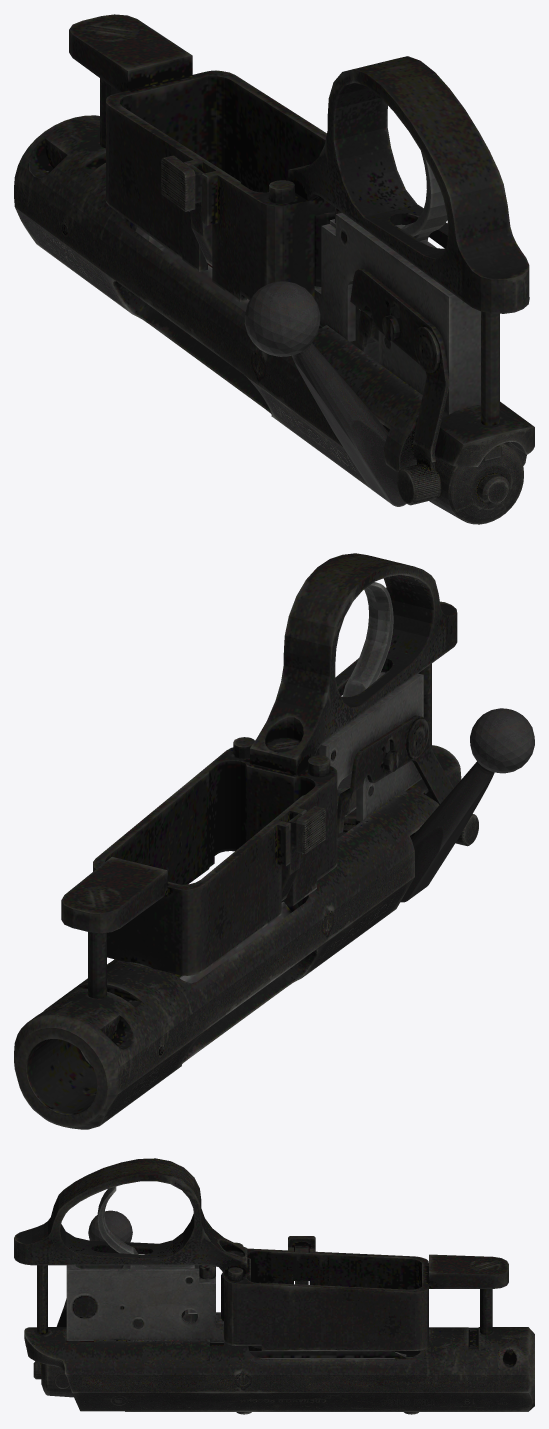
The picture shows the model from 3 angles, top to bottom: view 1: azimuth 30°, elevation 25°; view 2: azimuth 150°, elevation 25°; view 3: azimuth 270°, elevation 25°; orthographic projection. The views are drawn at different scales.
Visible parts, largest first — view 1: TW_5de652c31b7e3716273428be_PZ_Import; view 2: TW_5de652c31b7e3716273428be_PZ_Import; view 3: TW_5de652c31b7e3716273428be_PZ_Import.
Boxes of the visible parts, box(x1,y1,x2,y2) form: TW_5de652c31b7e3716273428be_PZ_Import: box(14, 14, 534, 524); TW_5de652c31b7e3716273428be_PZ_Import: box(14, 553, 534, 1129); TW_5de652c31b7e3716273428be_PZ_Import: box(14, 1158, 534, 1414).
Size of the model in its own units: 0.0344 by 0.1079 by 0.056.
Materials: 1 (1 with a texture image).
